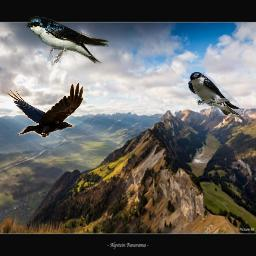Crow: (5, 82, 85, 138)
Swallow: (26, 16, 112, 67), (188, 72, 240, 116)
